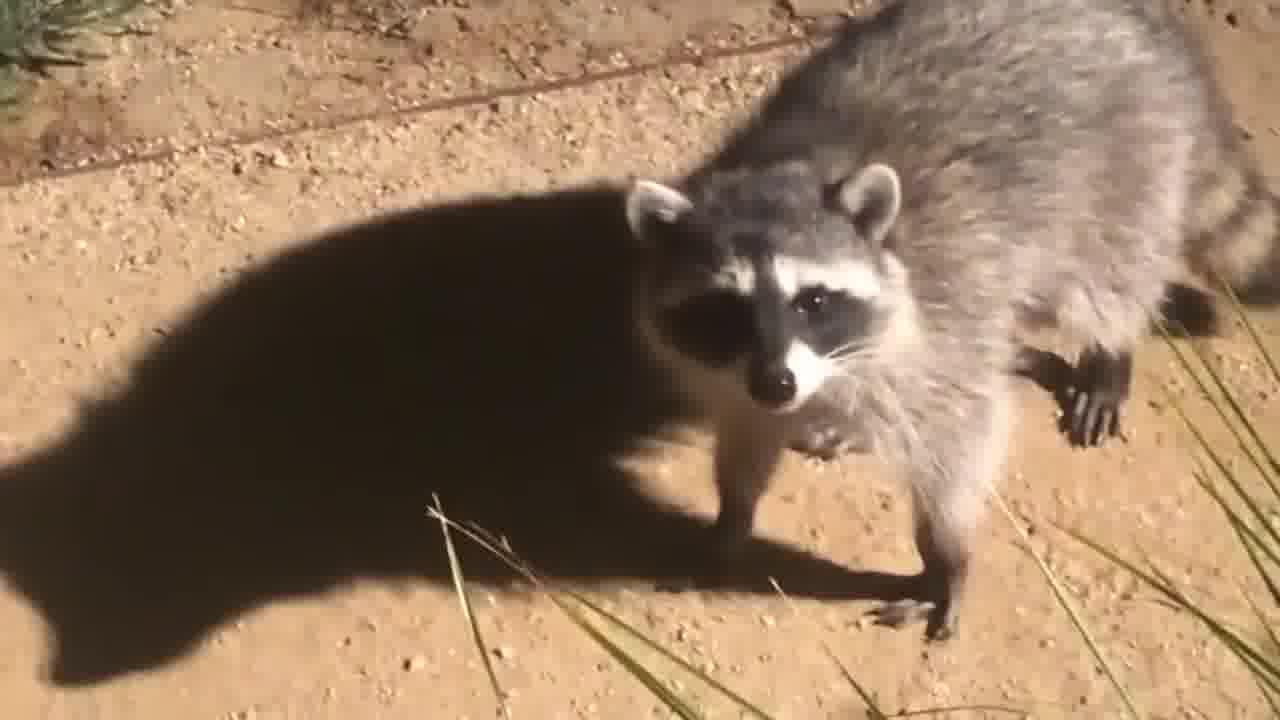raccoon: (612, 0, 1280, 655)
